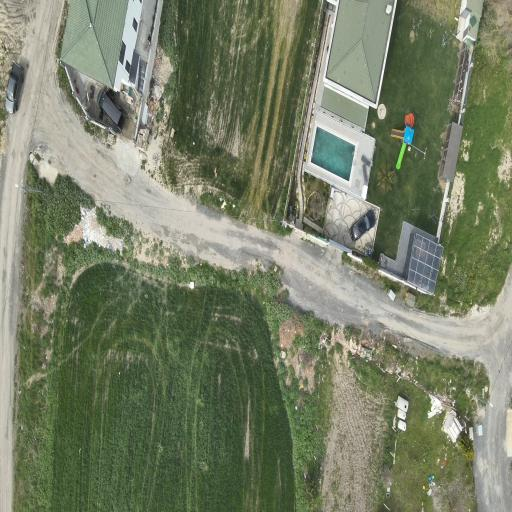car: (98, 91, 124, 129), (6, 63, 23, 113), (350, 210, 375, 241)
